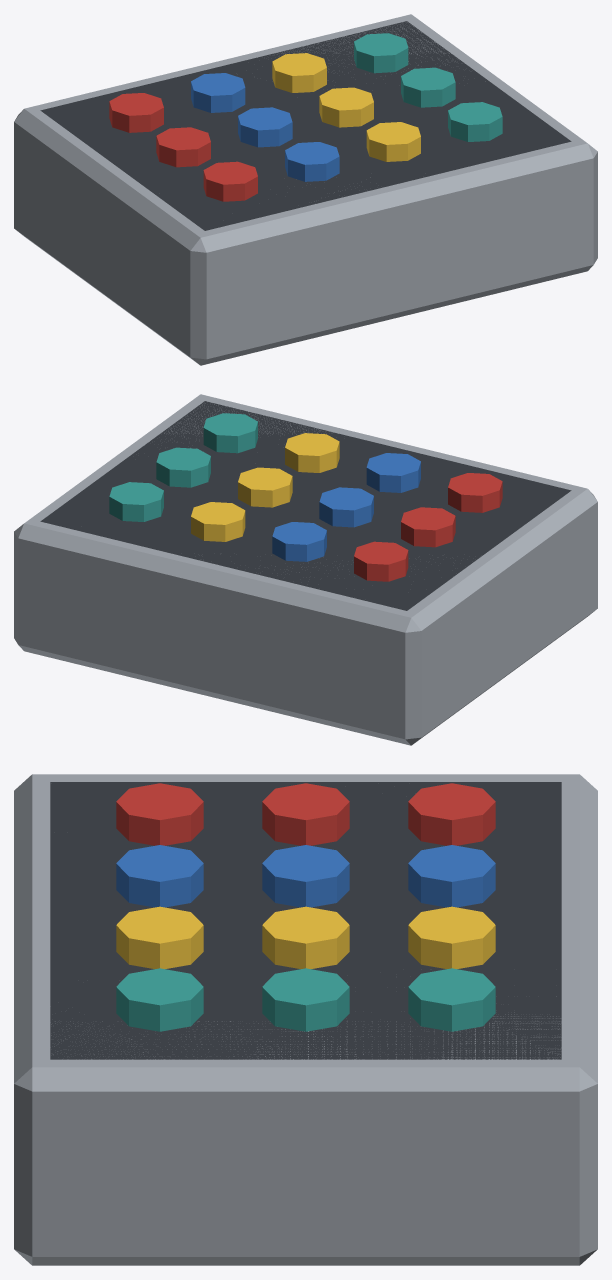
Rendered from prop_thumbtacks_p1.glb.
The picture shows the model from 3 angles, top to bottom: view 1: azimuth 30°, elevation 25°; view 2: azimuth 150°, elevation 25°; view 3: azimuth 270°, elevation 25°; orthographic projection. The views are drawn at different scales.
Visible parts, largest first — view 1: prop_thumbtacks_p1_mesh; view 2: prop_thumbtacks_p1_mesh; view 3: prop_thumbtacks_p1_mesh.
Boxes of the visible parts, box(x1,y1,x2,y2) form: prop_thumbtacks_p1_mesh: box(14, 14, 597, 365); prop_thumbtacks_p1_mesh: box(14, 394, 597, 745); prop_thumbtacks_p1_mesh: box(14, 774, 597, 1265).
Size of the model in its own units: 0.2 by 0.068 by 0.16.
